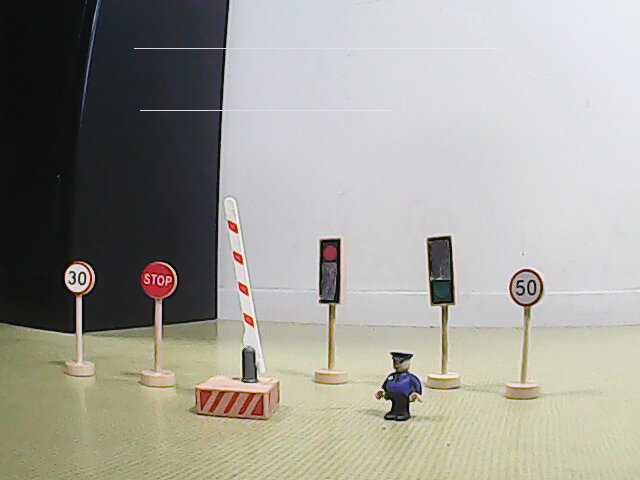barrier_up: (194, 195, 282, 421)
green_traffic_sign: (428, 235, 455, 305)
person: (368, 347, 426, 425)
red_traffic_sign: (318, 238, 346, 303)
sign_30: (63, 261, 95, 295)
sign_50: (509, 268, 544, 307)
stop_sign: (139, 261, 178, 300)
